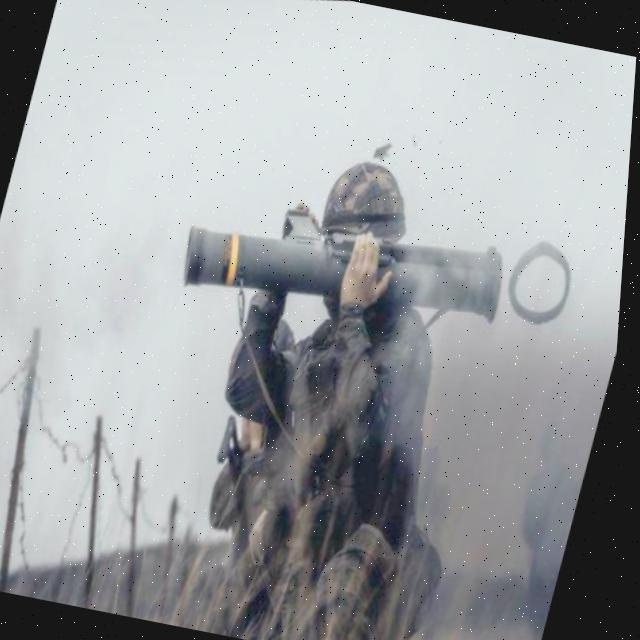rocket: (161, 158, 531, 372)
